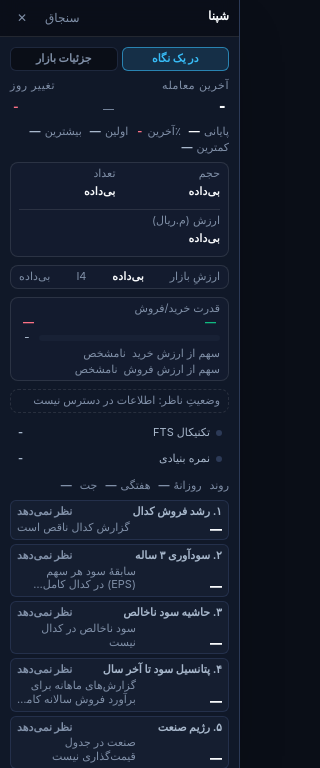
Scenario: سایدبار چپ: ردِ قطعی با «هنوز سنجیده نشده» یکی نمی‌شود › سیگنالِ پرتفو بی‌payload پنل را نمی‌شکند
The width and height of the screenshot is (320, 768).
Click the button with test id "inspector-tab-detail": click(64, 59) [10,47,118,71]
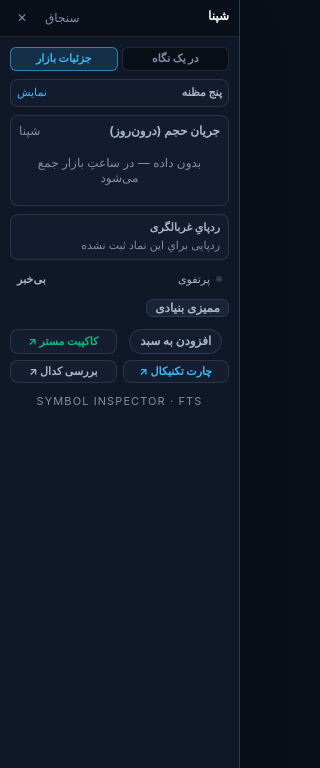
expect the text "پرتفوی" is shown: met, box [178,273,222,286]
